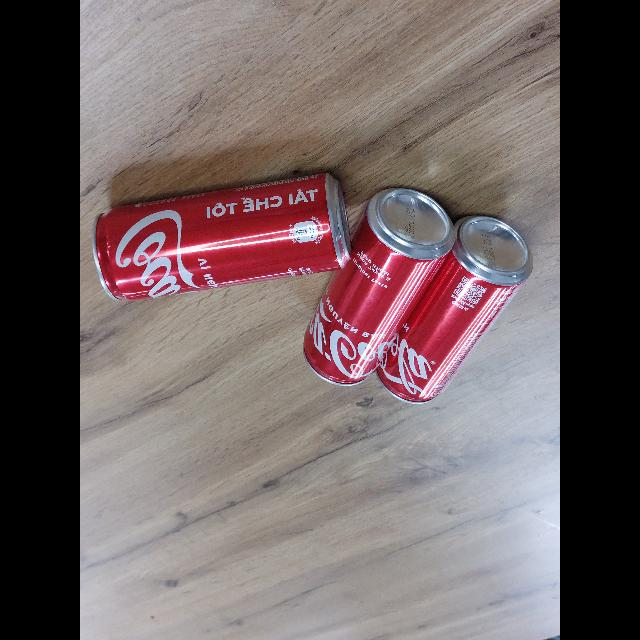coca_cola: (92, 174, 350, 301), (304, 188, 455, 385), (376, 216, 533, 404)
